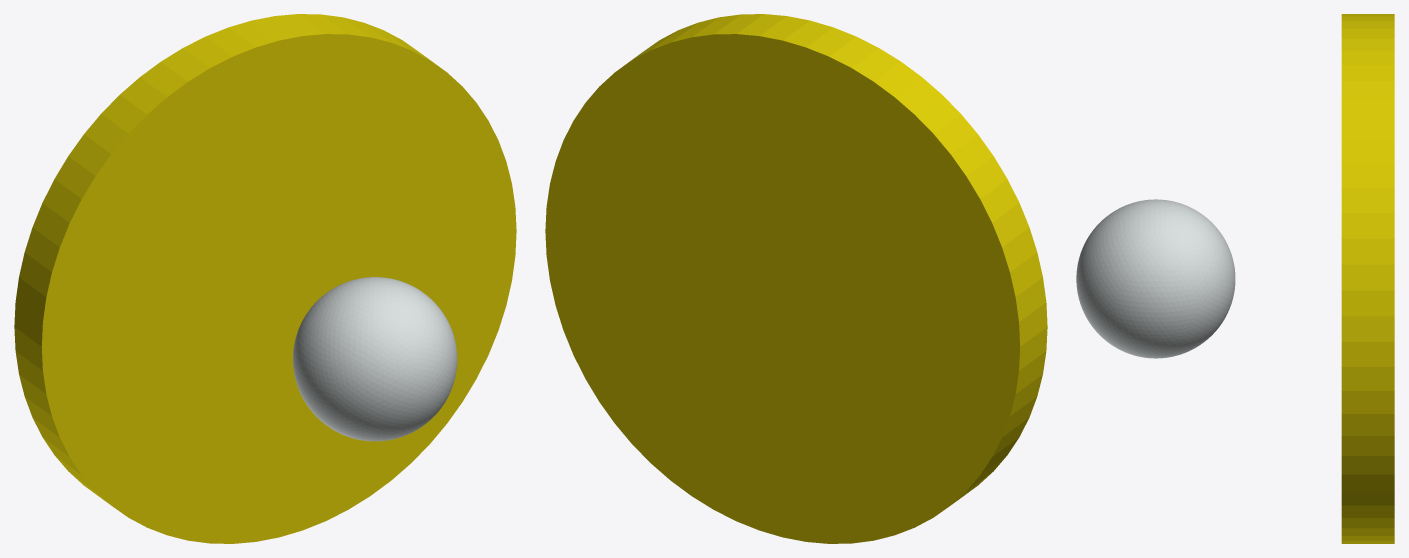
The model's file is 1742662984557_engagement_ring_final.glb.
3 renders of one model, left to right at view 1: azimuth 30°, elevation 25°; view 2: azimuth 150°, elevation 25°; view 3: azimuth 270°, elevation 25°, orthographic. The views are drawn at different scales.
Parts seen in each view (by area): view 1: world; view 2: world; view 3: world.
Part boxes in pixels (x1,y1,x2,y2): world: (14,14,516,543); world: (545,14,1047,543); world: (1076,14,1394,543).
Size of the model in its own units: 2 by 2 by 1.2.
